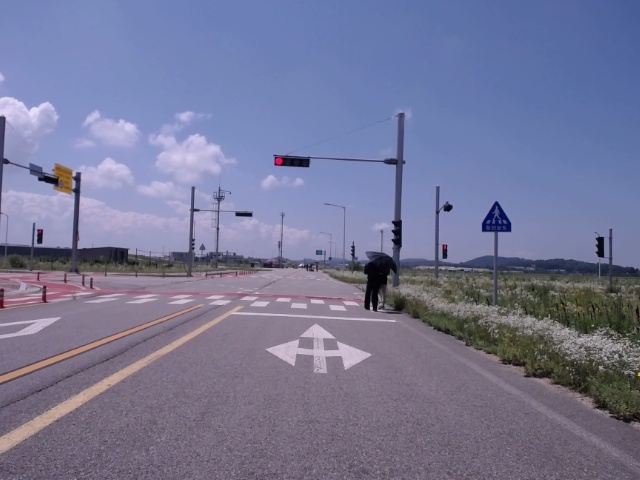red_4: (275, 157, 309, 168)
